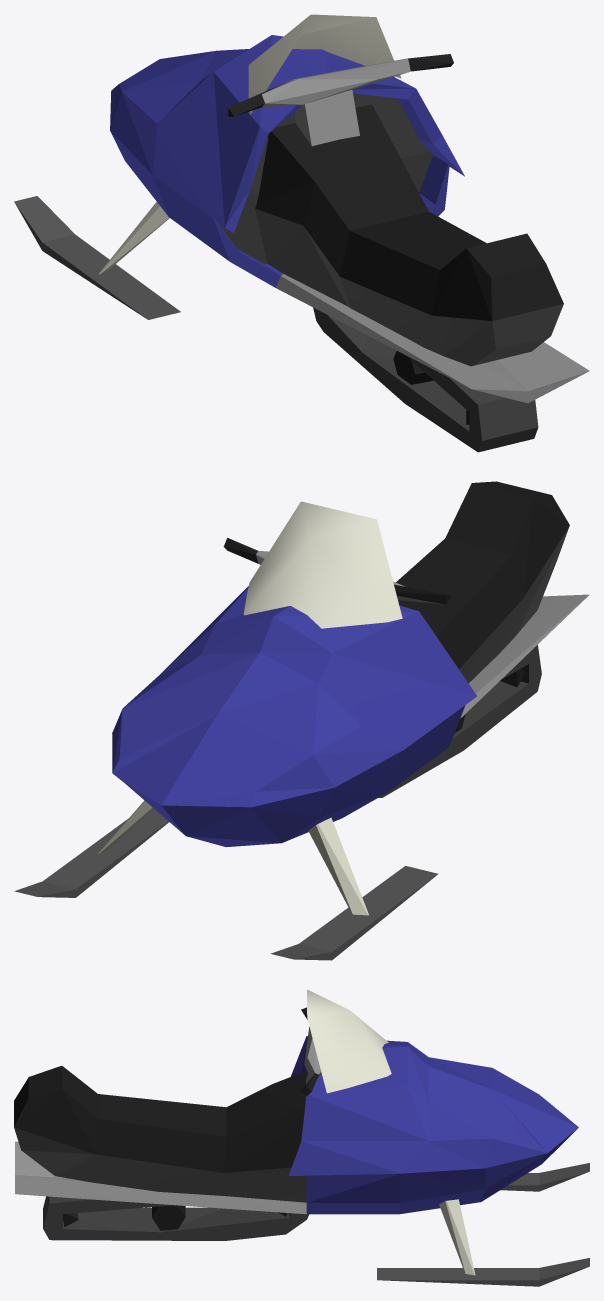
The model's file is snowmobile.dae.
3 views of the same model, one above another, from view 1: azimuth 30°, elevation 25°; view 2: azimuth 150°, elevation 25°; view 3: azimuth 270°, elevation 25° (orthographic). The views are drawn at different scales.
Parts seen in each view (by area): view 1: vsn_mesh_0_snowmobile; view 2: vsn_mesh_0_snowmobile; view 3: vsn_mesh_0_snowmobile.
Boxes of the visible parts, box(x1,y1,x2,y2) form: vsn_mesh_0_snowmobile: box(14, 14, 589, 452); vsn_mesh_0_snowmobile: box(14, 481, 589, 960); vsn_mesh_0_snowmobile: box(14, 989, 589, 1286).
Bounding box in the file's own units: 1.32 × 1.32 × 2.98.
